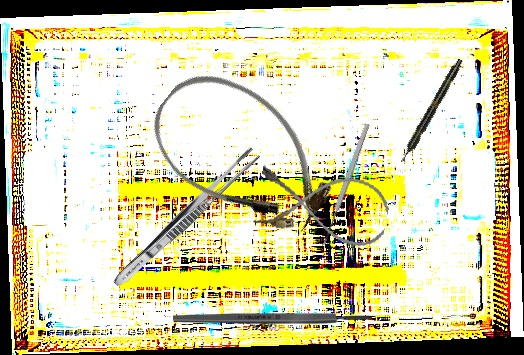Cannula: (132, 50, 353, 258), (251, 161, 394, 251)
Dressing Forceps: (109, 144, 262, 292)
Handpiece: (397, 57, 465, 165)
Scalpel Handle: (173, 312, 372, 324)
Surgical Spoon: (320, 122, 371, 247)
